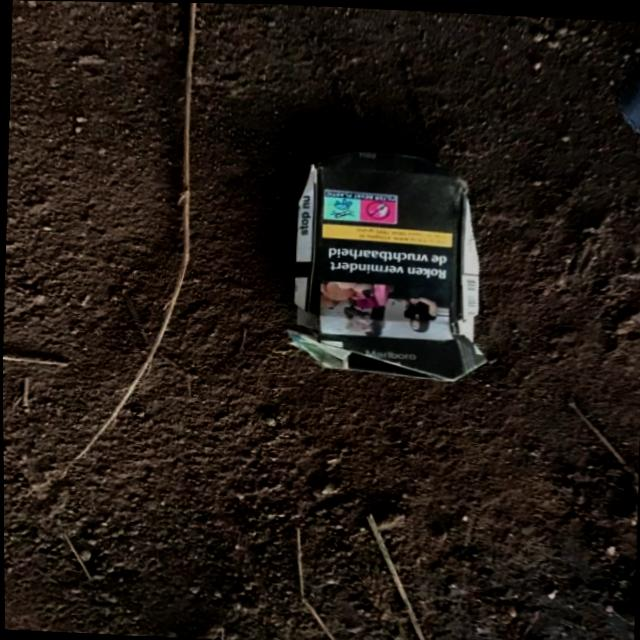Paper: (275, 140, 498, 384)
